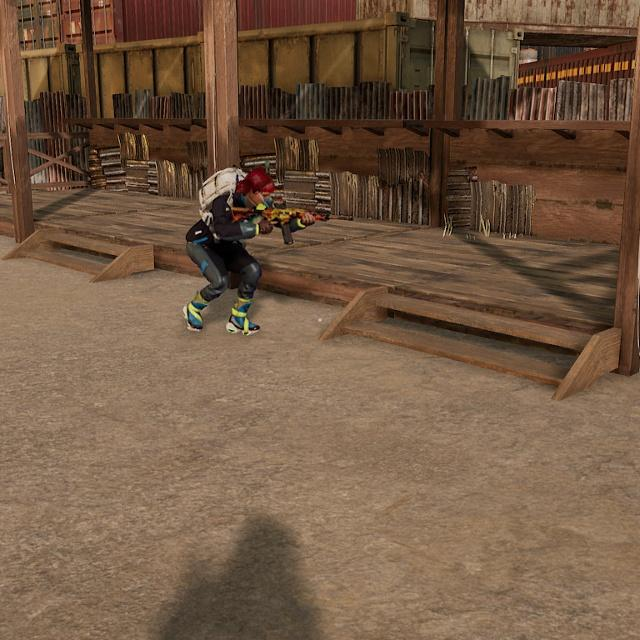head: (238, 161, 283, 218)
people: (179, 155, 300, 343)
